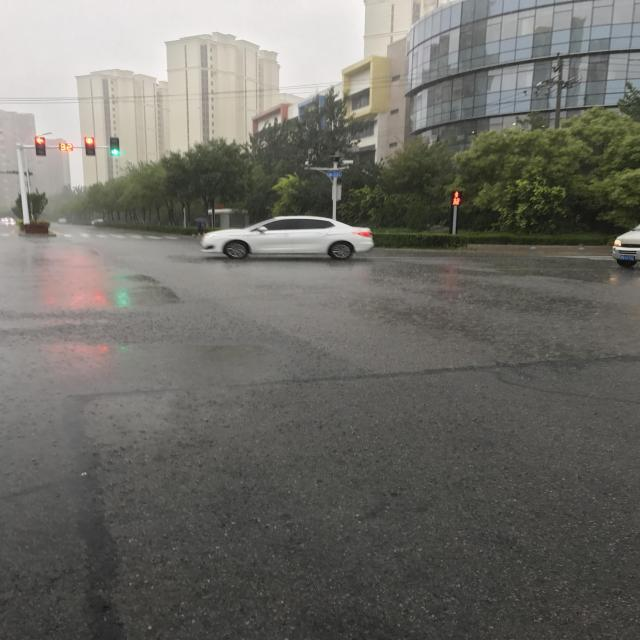car: (216, 266, 258, 440), (225, 0, 270, 28), (216, 572, 226, 582)
